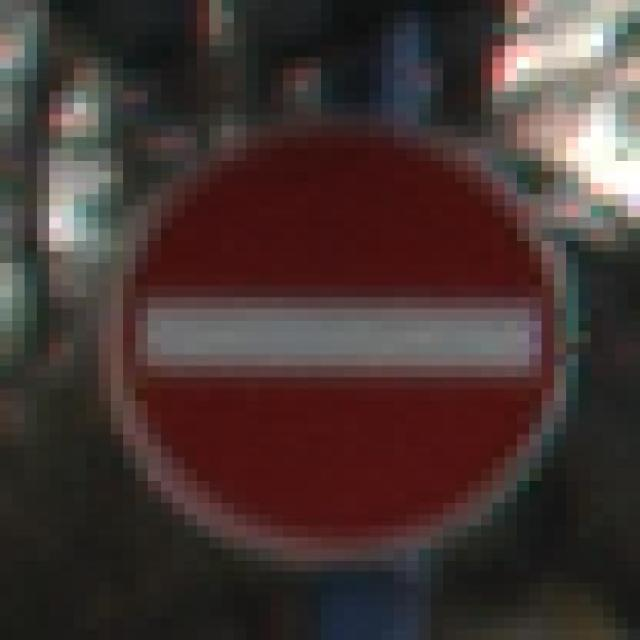No Entry: (62, 91, 603, 572)
